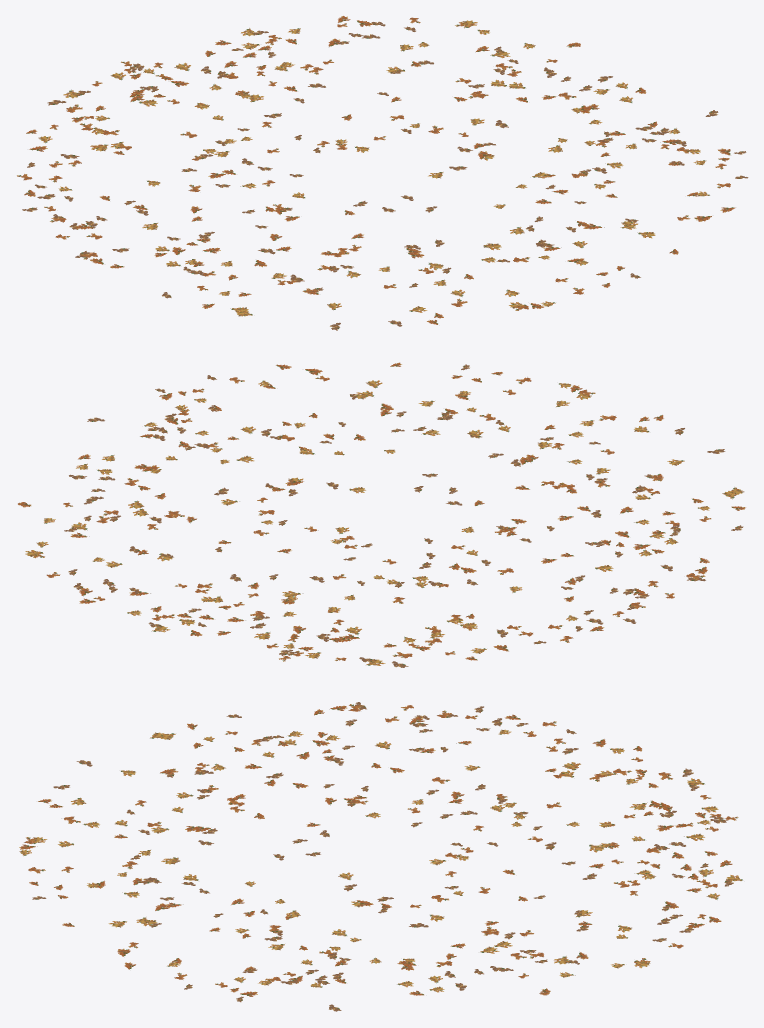
The model's file is hetre_adulte_d.fbx.
The picture shows the model from 3 angles, top to bottom: view 1: azimuth 30°, elevation 25°; view 2: azimuth 150°, elevation 25°; view 3: azimuth 270°, elevation 25°; orthographic projection.
Parts seen in each view (by area): view 1: hetre_adulte_d_feuilles_sol; view 2: hetre_adulte_d_feuilles_sol; view 3: hetre_adulte_d_feuilles_sol.
Boxes of the visible parts, box(x1,y1,x2,y2) form: hetre_adulte_d_feuilles_sol: box(17, 16, 748, 330); hetre_adulte_d_feuilles_sol: box(18, 362, 745, 667); hetre_adulte_d_feuilles_sol: box(19, 702, 742, 1011).
Size of what is drawn, in the model's own units: 14.4 by 0.00597 by 14.26.
